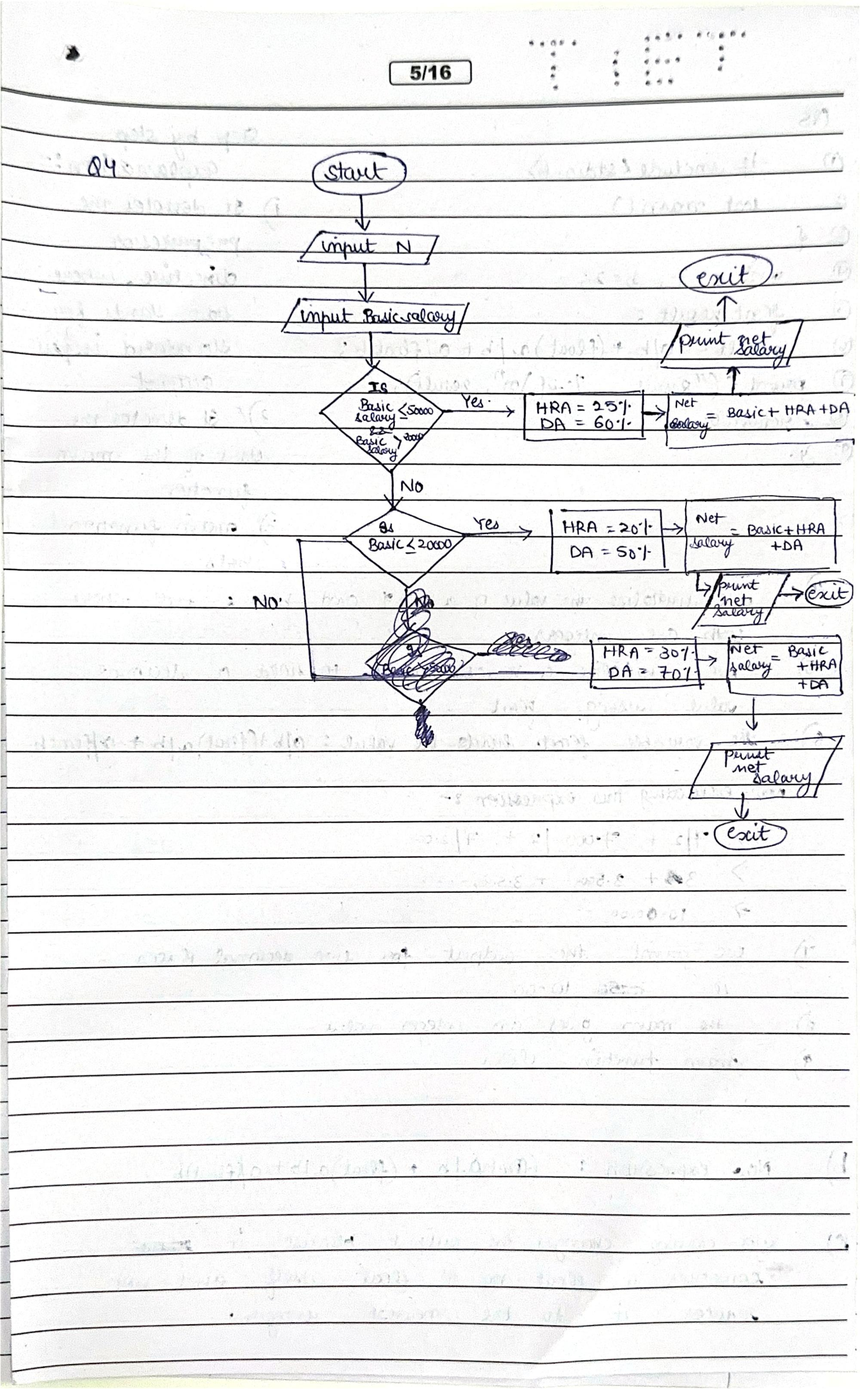cuttings: (354, 579, 584, 761)
